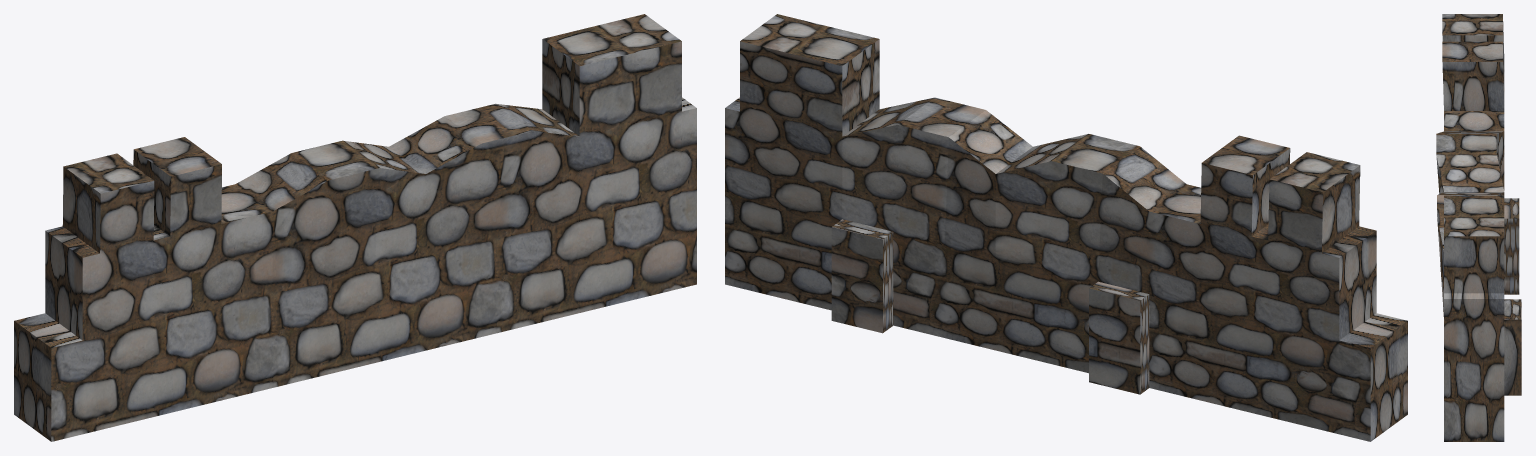
File: wall1.fbx
3 renders of one model, left to right at view 1: azimuth 30°, elevation 25°; view 2: azimuth 150°, elevation 25°; view 3: azimuth 270°, elevation 25°, orthographic. The views are drawn at different scales.
Parts seen in each view (by area): view 1: Cube; view 2: Cube; view 3: Cube.
Boxes of the visible parts, box(x1,y1,x2,y2) form: Cube: box(14, 14, 696, 441); Cube: box(725, 14, 1407, 441); Cube: box(1436, 14, 1521, 441).
Bounding box in the file's own units: 1997 × 730 × 282.
1 material, 1 textured.
